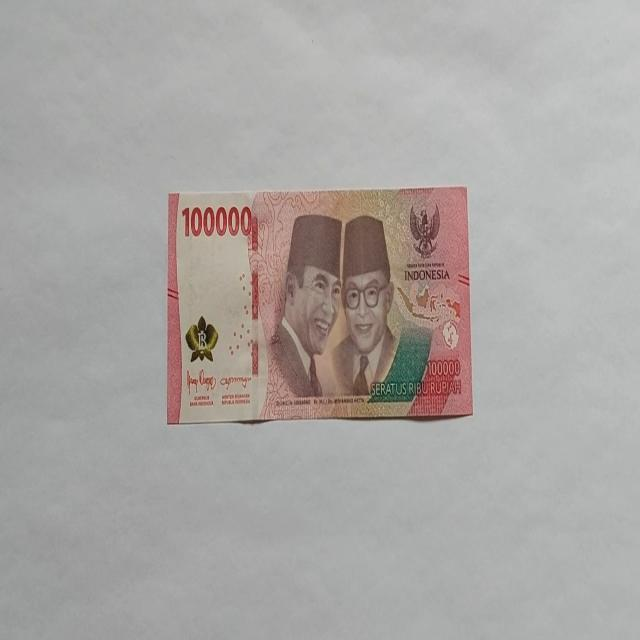seratus ribu rupiah: (166, 186, 473, 425)
